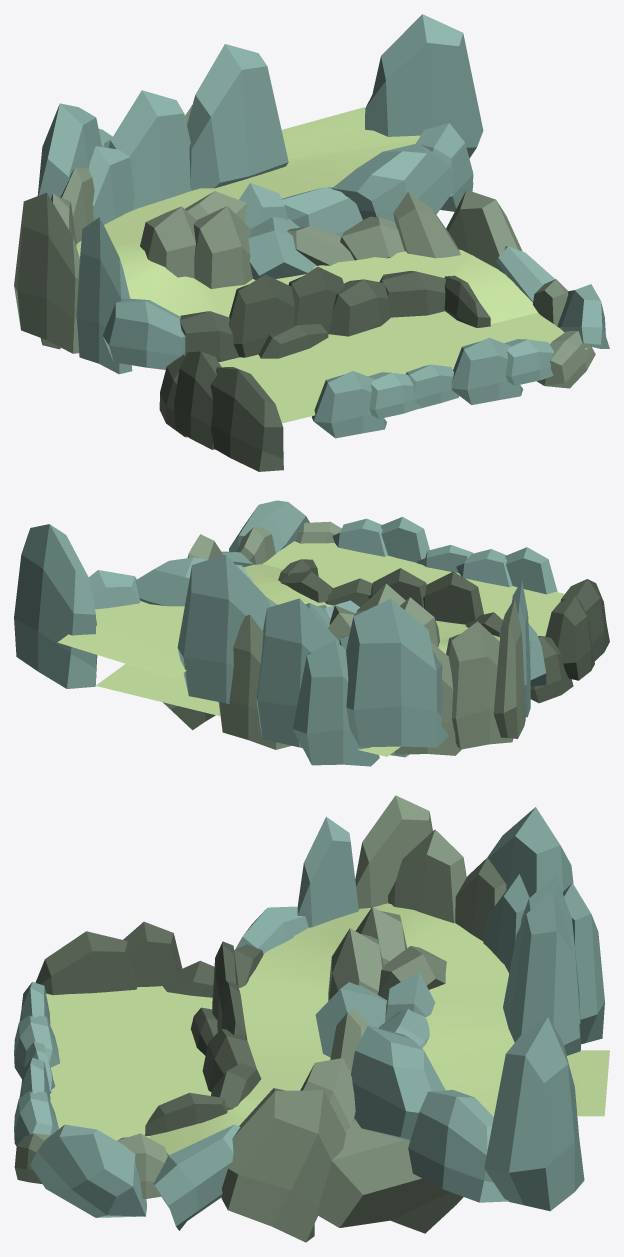
File: GenbuStage3.fbx
3 renders of one model, top to bottom at view 1: azimuth 30°, elevation 25°; view 2: azimuth 150°, elevation 25°; view 3: azimuth 270°, elevation 25°, orthographic. The views are drawn at different scales.
Visible parts, largest first — view 1: Plane.046, Plane.002, Plane.033, Plane.040; view 2: Plane.046, Plane.033, Plane.002, Plane.040; view 3: Plane.046, Plane.002, Plane.033, Plane.040.
Boxes of the visible parts, x1,y1,x2,y2 form: Plane.046: (37,14,609,438); Plane.002: (76,107,587,423); Plane.033: (14,105,595,388); Plane.040: (159,266,490,471); Plane.046: (14,500,557,766); Plane.033: (163,521,525,755); Plane.002: (57,541,564,756); Plane.040: (278,559,609,703); Plane.046: (14,807,604,1230); Plane.002: (46,903,609,1154); Plane.033: (14,795,506,1242); Plane.040: (35,921,263,1135).
Size of the model in its own units: 90.46 by 44.1 by 81.43.
